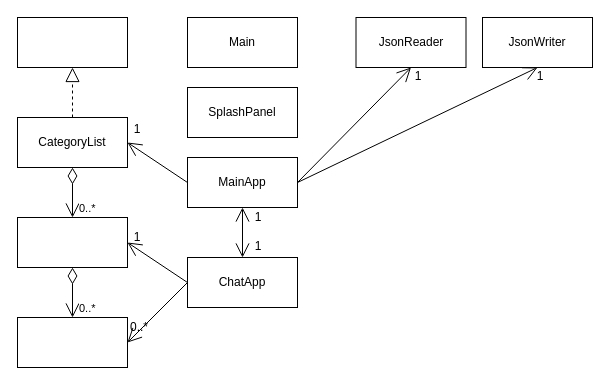
The diagram is 610 pixels wide and 385 high, and some of its shapes have lost their labels. Here are the shapes that lost their labels. From the top down, the box of each, then its label:
(16, 16, 128, 68): «interface» Writable
(16, 216, 128, 268): Category
(16, 316, 128, 368): Text
